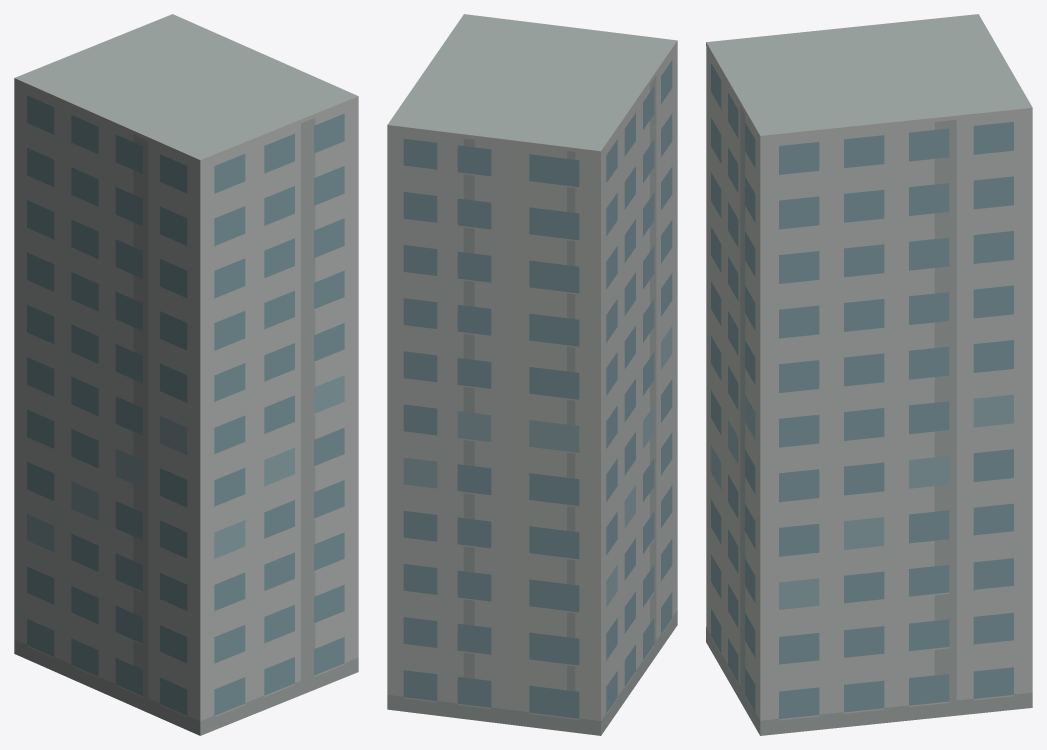
File: residential-48770e3e-e7b1-4054-bb3f-47390a5f4567.glb
The picture shows the model from 3 angles, left to right: view 1: azimuth 30°, elevation 25°; view 2: azimuth 150°, elevation 25°; view 3: azimuth 270°, elevation 25°; orthographic projection. The views are drawn at different scales.
Visible parts, largest first — view 1: residential-48770e3e-e7b1-4054-bb3f-47390a5f4567.tmp; view 2: residential-48770e3e-e7b1-4054-bb3f-47390a5f4567.tmp; view 3: residential-48770e3e-e7b1-4054-bb3f-47390a5f4567.tmp.
Part boxes in pixels (x1,y1,x2,y2): residential-48770e3e-e7b1-4054-bb3f-47390a5f4567.tmp: [14, 14, 358, 735]; residential-48770e3e-e7b1-4054-bb3f-47390a5f4567.tmp: [387, 14, 677, 735]; residential-48770e3e-e7b1-4054-bb3f-47390a5f4567.tmp: [706, 14, 1032, 735].
Bounding box in the file's own units: 15.26 × 35 × 17.28.
